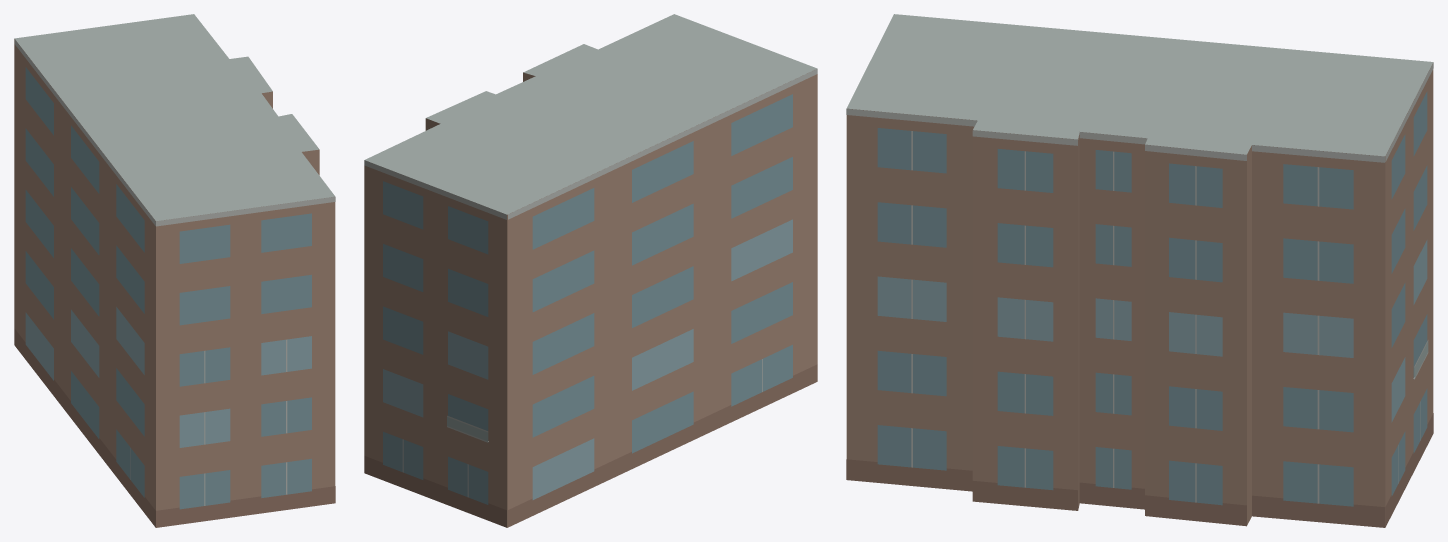
File: survey-upis-32708070.glb
The picture shows the model from 3 angles, left to right: view 1: azimuth 30°, elevation 25°; view 2: azimuth 150°, elevation 25°; view 3: azimuth 270°, elevation 25°; orthographic projection. The views are drawn at different scales.
Parts seen in each view (by area): view 1: survey-upis-32708070.tmp; view 2: survey-upis-32708070.tmp; view 3: survey-upis-32708070.tmp.
Part boxes in pixels (x1,y1,x2,y2): survey-upis-32708070.tmp: (14,14,335,527); survey-upis-32708070.tmp: (364,14,817,527); survey-upis-32708070.tmp: (846,14,1433,527).
Bounding box in the file's own units: 11.65 × 14.15 × 20.28.
